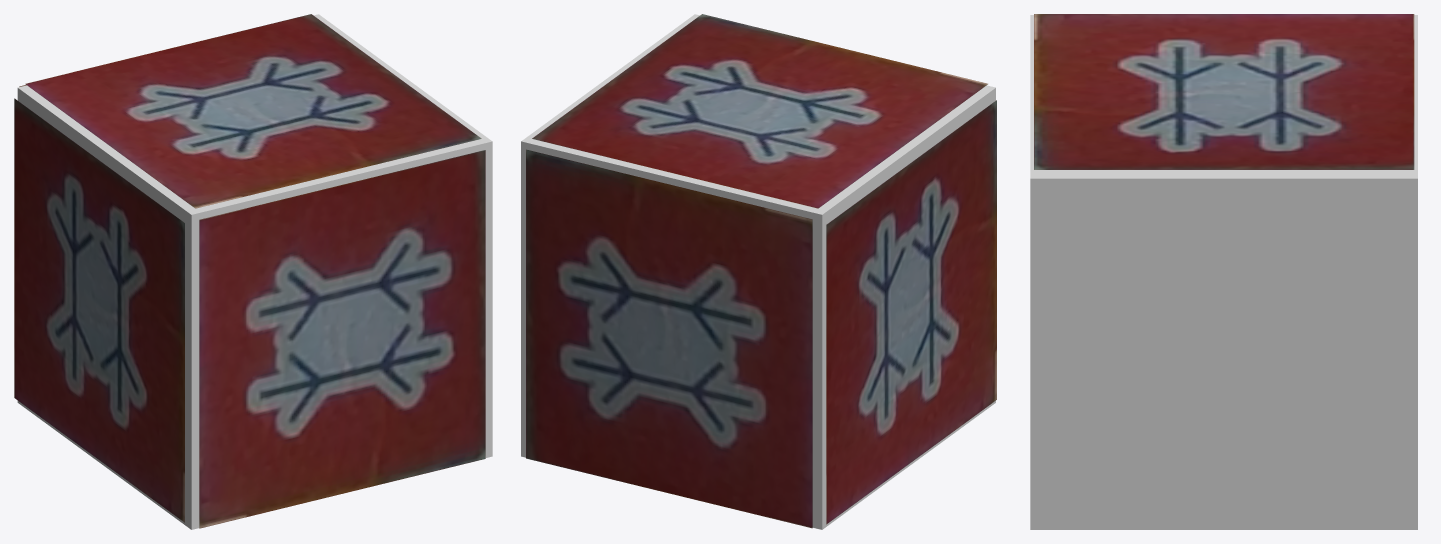
The picture shows the model from 3 angles, left to right: view 1: azimuth 30°, elevation 25°; view 2: azimuth 150°, elevation 25°; view 3: azimuth 270°, elevation 25°; orthographic projection. The views are drawn at different scales.
Visible parts, largest first — view 1: R1.004, R1.003, R1.002, Link30; view 2: R1.001, R1.003, R1.002, Link30; view 3: Link30, R1.002.
Part boxes in pixels (box(x1,y1,x2,y2)): R1.004: box(199, 150, 485, 528); R1.003: box(14, 98, 184, 522); R1.002: box(25, 14, 481, 208); Link30: box(17, 14, 492, 529); R1.001: box(526, 149, 812, 528); R1.003: box(826, 100, 996, 524); R1.002: box(532, 14, 987, 208); Link30: box(521, 14, 995, 529); Link30: box(1030, 15, 1417, 529); R1.002: box(1034, 14, 1414, 169).
Size of the model in its own units: 0.3543 by 0.3623 by 0.3557.
Materials: 1 (1 with a texture image).
